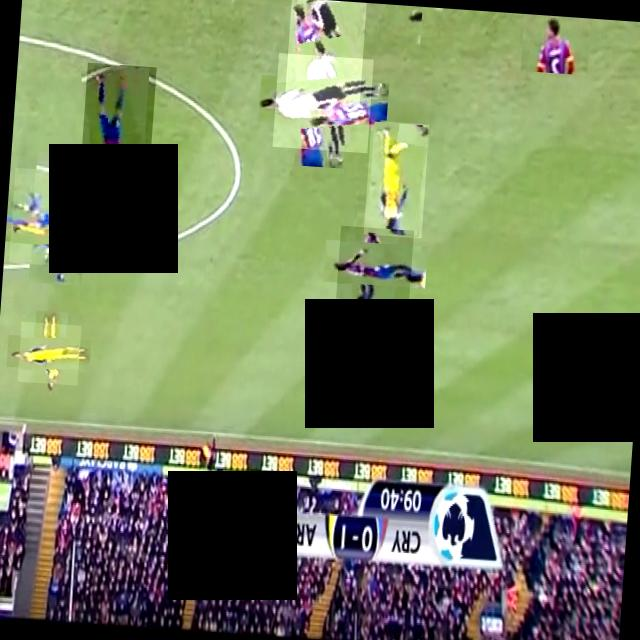referee: (272, 52, 373, 152)
soccer-player: (77, 62, 156, 208), (9, 168, 110, 268), (283, 0, 366, 121), (363, 120, 429, 238), (336, 225, 414, 303), (520, 13, 591, 75), (16, 321, 80, 385), (393, 5, 434, 38)
